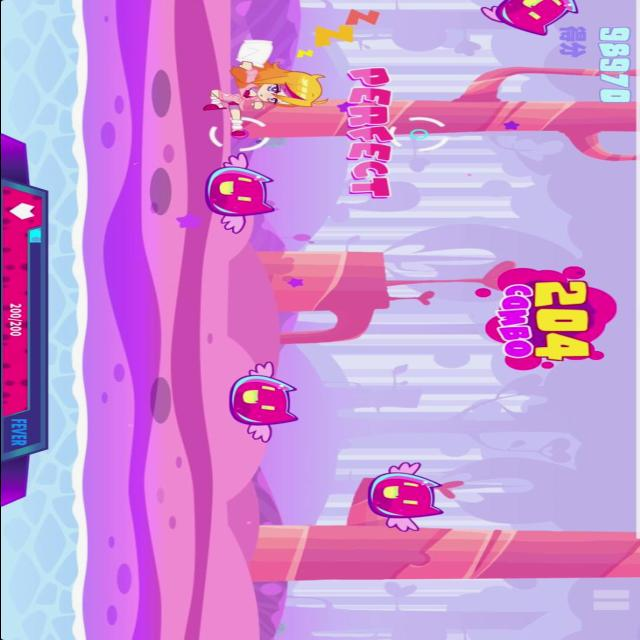mao: (226, 358, 306, 446), (201, 152, 281, 238), (362, 460, 449, 535), (474, 0, 582, 37)
